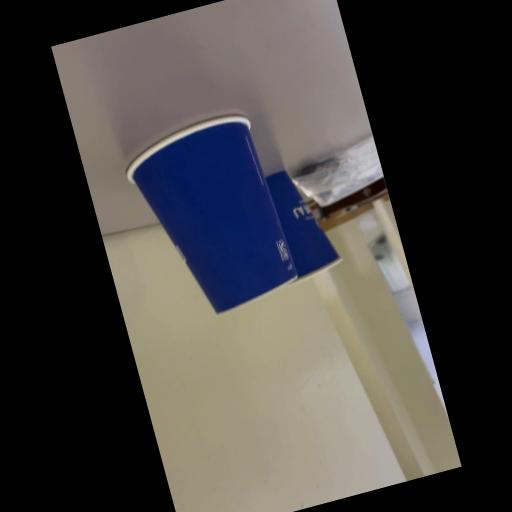lp_paper_cup: (119, 108, 303, 324), (243, 160, 345, 288)
